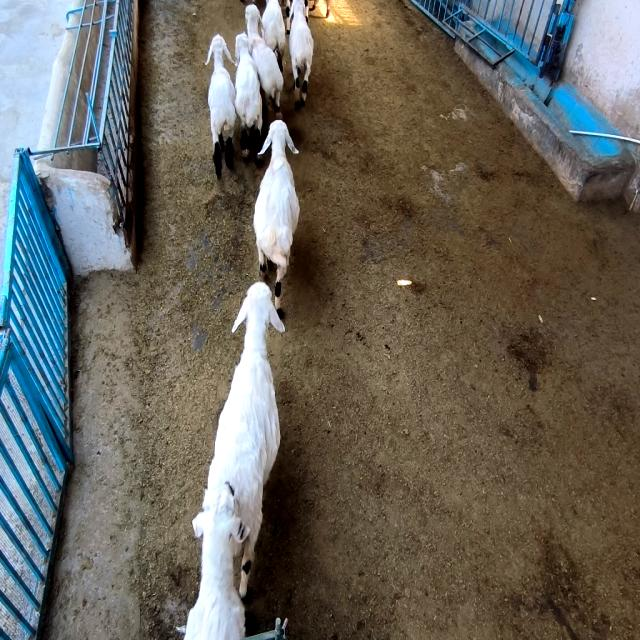sheep: (205, 282, 284, 593), (185, 485, 245, 639), (254, 120, 300, 315), (205, 35, 236, 177), (245, 5, 284, 112), (235, 33, 262, 161), (289, 0, 314, 106), (261, 0, 286, 71)
